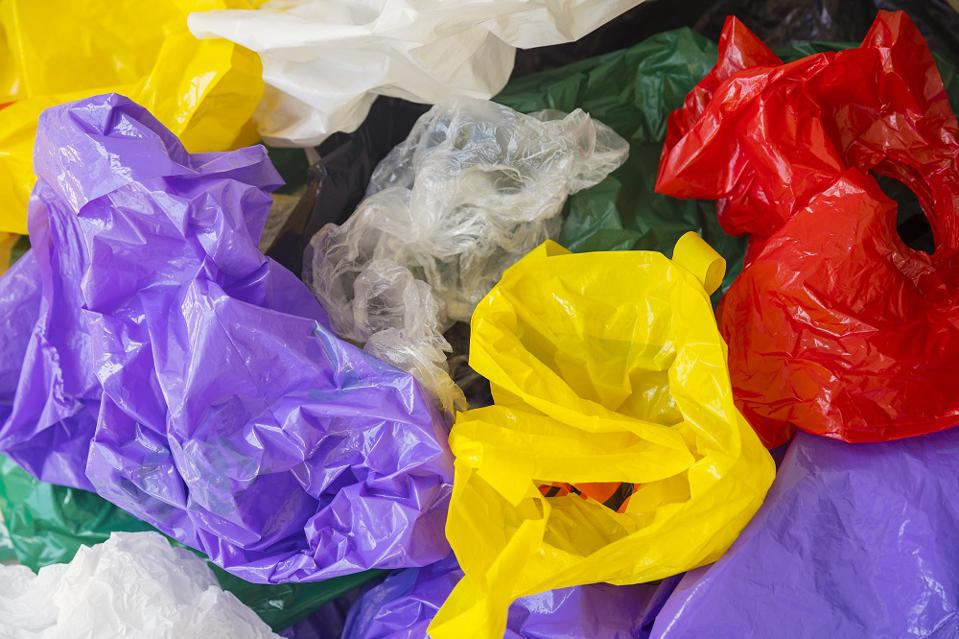plastic_bagwdw: (2, 75, 479, 632), (371, 161, 819, 639), (626, 11, 956, 508), (147, 1, 718, 212), (27, 1, 344, 227)
